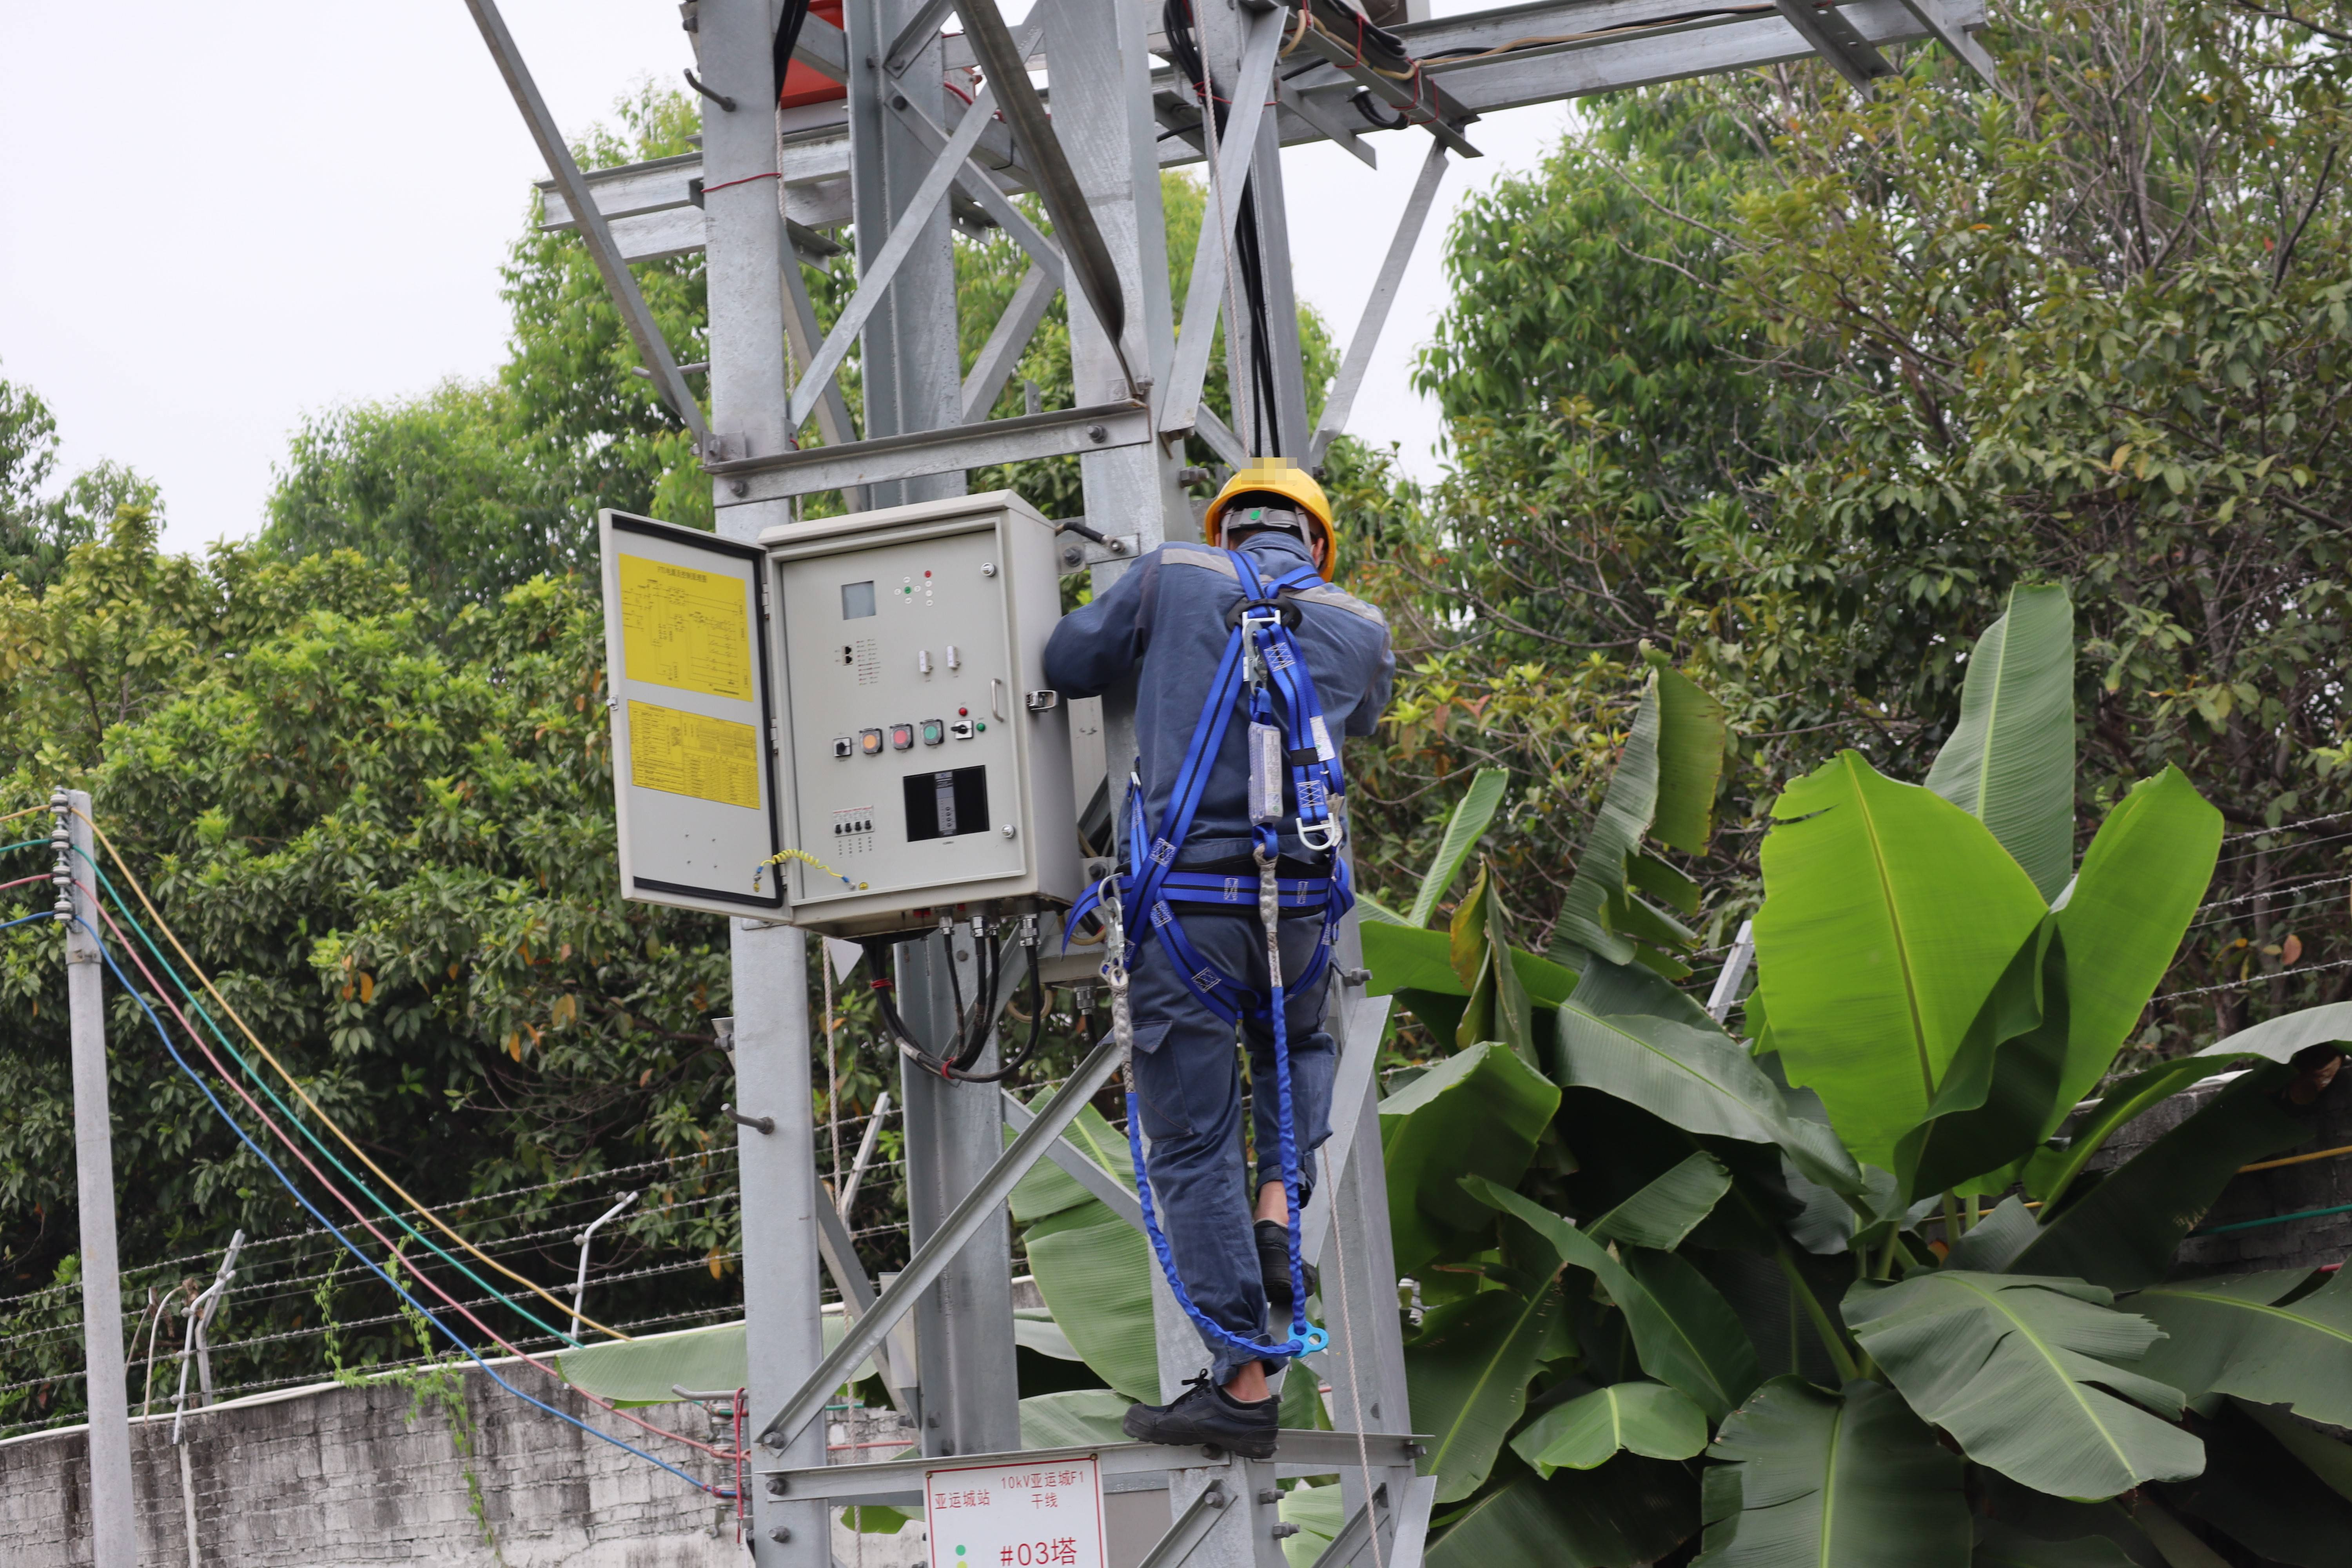downsuit: (1122, 906, 1355, 1360)
upsuit: (1038, 536, 1396, 891)
